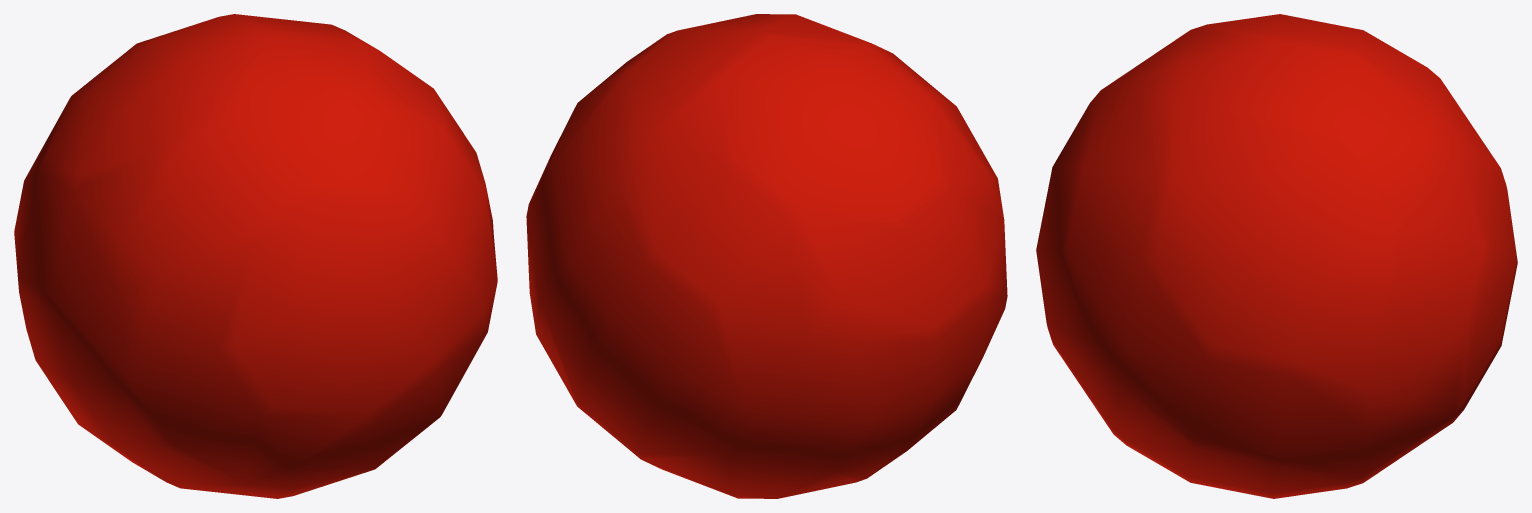
The model's file is ball.obj.
3 renders of one model, left to right at view 1: azimuth 30°, elevation 25°; view 2: azimuth 150°, elevation 25°; view 3: azimuth 270°, elevation 25°, orthographic.
Visible parts, largest first — view 1: Mball; view 2: Mball; view 3: Mball.
Boxes of the visible parts, box(x1,y1,x2,y2) form: Mball: box(14, 14, 497, 498); Mball: box(526, 14, 1007, 498); Mball: box(1036, 14, 1517, 498).
Size of the model in its own units: 2.29 by 2.3 by 2.27.
